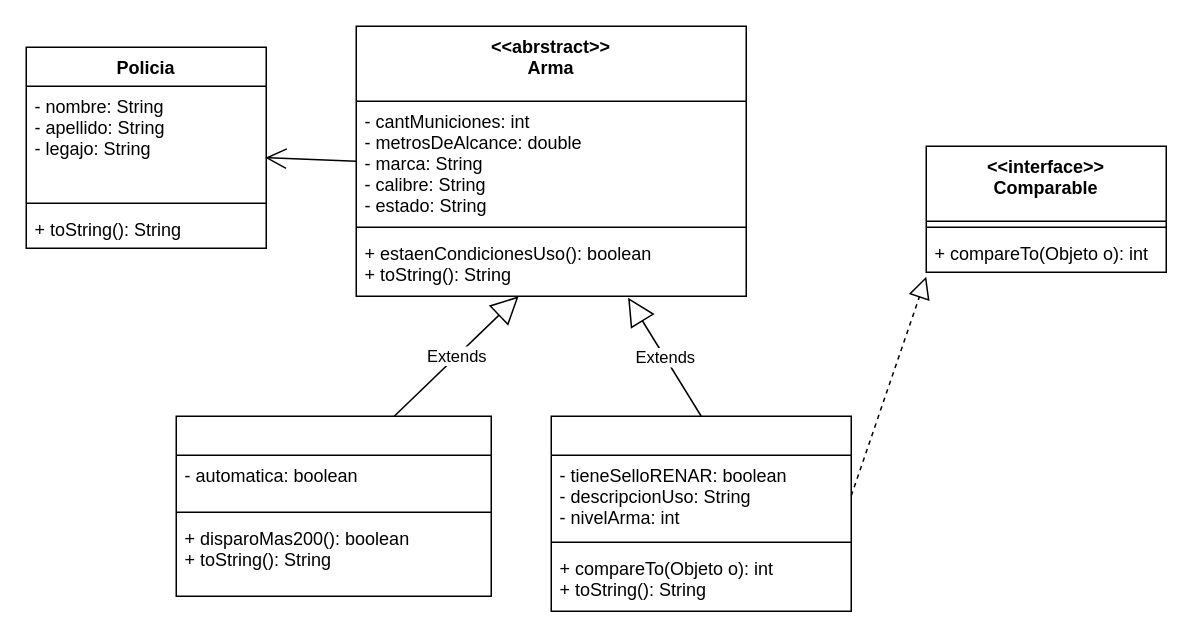
Image size: 1193x642. Some labels were removed from this diagram. The shapes that lost their labels are listed below. From the top down, each one's box as (x1, y1, x2, y2) in pixels, then its label:
(175, 415, 491, 596): ArmaCorta
(550, 415, 851, 611): ArmaLarga
